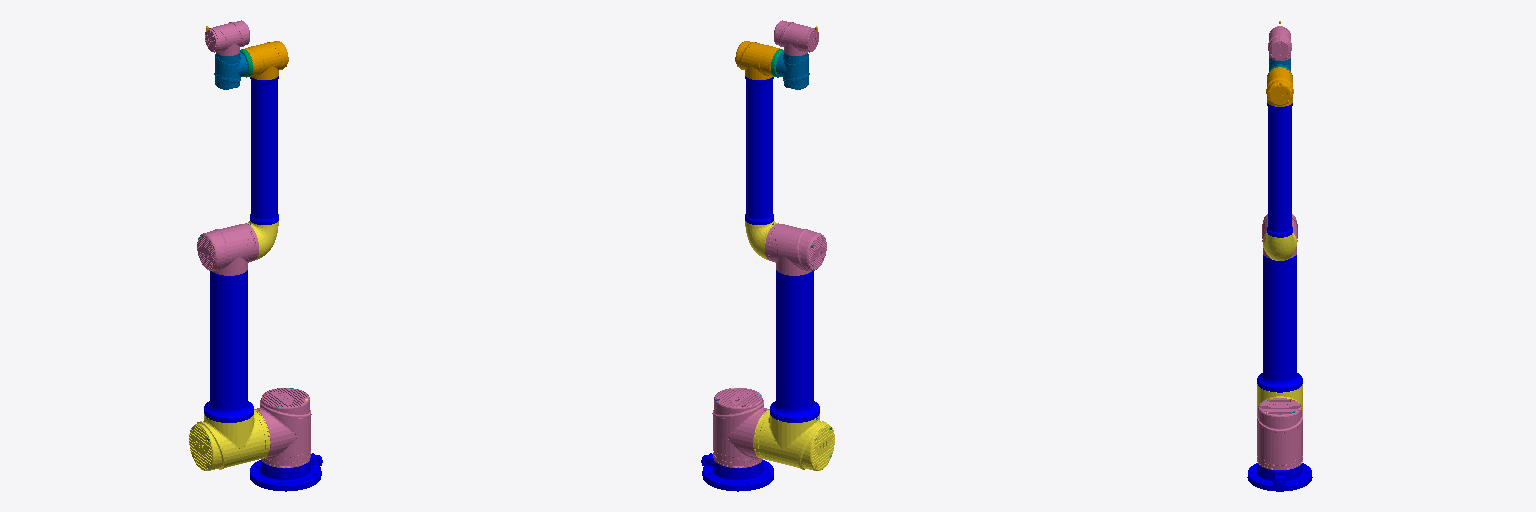
--- Facts derived from the render (not from the file) ---
3 views of the same robot in one strip: view 1: azimuth 30°, elevation 25°; view 2: azimuth 150°, elevation 25°; view 3: azimuth 270°, elevation 25° (orthographic).
Model AUBO_I10 with 34 links and 33 joints (6 revolute, 27 fixed), rooted at base_link, posed every joint at zero.
Links seen in each view (by area): view 1: link1, link2, link11, link6, link14, base_link, link24, link30, link28, link19; view 2: link1, link2, link11, link6, link14, base_link, link24, link30, link28, link19; view 3: link1, link2, link6, base_link, link24, link30, link19.
Boxes of the visible links, x1,y1,x2,y2 form: link1: (204,270,253,422); link2: (250,76,278,224); link11: (189,410,270,470); link6: (254,388,311,467); link14: (197,223,258,275); base_link: (250,453,322,491); link24: (245,41,288,79); link30: (205,20,249,55); link28: (214,52,247,89); link19: (247,221,278,259); link1: (770,270,819,422); link2: (745,76,773,224); link11: (753,410,834,470); link6: (712,388,769,467); link14: (765,223,826,275); base_link: (701,453,773,491); link24: (735,41,779,79); link30: (774,20,818,55); link28: (776,52,809,89); link19: (745,221,777,259); link1: (1257,255,1302,392); link2: (1267,103,1292,237); link6: (1257,398,1302,469); base_link: (1247,463,1312,491); link24: (1266,67,1293,106); link30: (1268,26,1291,60); link19: (1263,233,1296,260).
Size in the robot's own frame: 420 by 218 by 1563 metres.
34 mesh visuals loaded from 34 distinct referenced files (34 binary STL).

robot.urdf — AUBO_I10:
<?xml version="1.0" ?>
<!-- =================================================================================== -->
<!-- |    This document was autogenerated by xacro from aubo_i10.urdf.xacro            | -->
<!-- |    EDITING THIS FILE BY HAND IS NOT RECOMMENDED                                 | -->
<!-- =================================================================================== -->
<robot name="AUBO_I10">
  <material name="blue">
    <color rgba="0 0 1 1"/>
  </material>
  <!-- ==================== BASE ==================== -->
  <link name="base_link">
    <inertial>
      <mass value="10"/>
      <inertia ixx="0.1" ixy="0.0" ixz="0.0" iyy="0.1" iyz="0.0" izz="0.1"/>
    </inertial>
    <visual>
      <geometry>
        <mesh filename="package://3D_model/AUBO_I10/meshes/I10i10_base.stl" scale="1 1 1"/>
      </geometry>
      <material name="blue"/>
    </visual>
    <collision>
      <geometry>
        <mesh filename="package://3D_model/AUBO_I10/meshes/I10i10_base.stl" scale="1 1 1"/>
      </geometry>
    </collision>
  </link>
  <!-- ==================== LINK1 ==================== -->
  <link name="link1">
    <inertial>
      <mass value="5"/>
      <inertia ixx="0.05" ixy="0.0" ixz="0.0" iyy="0.05" iyz="0.0" izz="0.05"/>
    </inertial>
    <visual>
      <geometry>
        <mesh filename="package://3D_model/AUBO_I10/meshes/I10i10_arm_1.stl" scale="1 1 1"/>
      </geometry>
      <material name="blue"/>
    </visual>
    <collision>
      <geometry>
        <mesh filename="package://3D_model/AUBO_I10/meshes/I10i10_arm_1.stl" scale="1 1 1"/>
      </geometry>
    </collision>
  </link>
  <joint name="joint1" type="revolute">
    <parent link="base_link"/>
    <child link="link1"/>
    <origin rpy="0 0 0" xyz="0 0 0.1"/>
    <axis xyz="0 0 1"/>
    <limit effort="50" lower="-3.14" upper="3.14" velocity="1.0"/>
  </joint>
  <!-- ==================== LINK2 ==================== -->
  <link name="link2">
    <inertial>
      <mass value="4"/>
      <inertia ixx="0.04" ixy="0.0" ixz="0.0" iyy="0.04" iyz="0.0" izz="0.04"/>
    </inertial>
    <visual>
      <geometry>
        <mesh filename="package://3D_model/AUBO_I10/meshes/I10i10_arm_2.stl" scale="1 1 1"/>
      </geometry>
      <material name="blue"/>
    </visual>
    <collision>
      <geometry>
        <mesh filename="package://3D_model/AUBO_I10/meshes/I10i10_arm_2.stl" scale="1 1 1"/>
      </geometry>
    </collision>
  </link>
  <joint name="joint2" type="revolute">
    <parent link="link1"/>
    <child link="link2"/>
    <origin rpy="0 0 0" xyz="0 0 0.2"/>
    <axis xyz="0 1 0"/>
    <limit effort="50" lower="-3.14" upper="3.14" velocity="1.0"/>
  </joint>
  <!-- ==================== LINK3 ==================== -->
  <link name="link3">
    <inertial>
      <mass value="3.5"/>
      <inertia ixx="0.035" ixy="0.0" ixz="0.0" iyy="0.035" iyz="0.0" izz="0.035"/>
    </inertial>
    <visual>
      <geometry>
        <mesh filename="package://3D_model/AUBO_I10/meshes/I10Mesh.001.stl" scale="1 1 1"/>
      </geometry>
    </visual>
    <collision>
      <geometry>
        <mesh filename="package://3D_model/AUBO_I10/meshes/I10Mesh.001.stl" scale="1 1 1"/>
      </geometry>
    </collision>
  </link>
  <joint name="joint3" type="revolute">
    <parent link="link2"/>
    <child link="link3"/>
    <origin rpy="0 0 0" xyz="0 0 0.2"/>
    <axis xyz="0 1 0"/>
    <limit effort="50" lower="-3.14" upper="3.14" velocity="1.0"/>
  </joint>
  <!-- ==================== LINK4 ==================== -->
  <link name="link4">
    <inertial>
      <mass value="3"/>
      <inertia ixx="0.03" ixy="0.0" ixz="0.0" iyy="0.03" iyz="0.0" izz="0.03"/>
    </inertial>
    <visual>
      <geometry>
        <mesh filename="package://3D_model/AUBO_I10/meshes/I10Mesh.002.stl" scale="1 1 1"/>
      </geometry>
    </visual>
    <collision>
      <geometry>
        <mesh filename="package://3D_model/AUBO_I10/meshes/I10Mesh.002.stl" scale="1 1 1"/>
      </geometry>
    </collision>
  </link>
  <joint name="joint4" type="revolute">
    <parent link="link3"/>
    <child link="link4"/>
    <origin rpy="0 0 0" xyz="0 0 0.2"/>
    <axis xyz="0 1 0"/>
    <limit effort="50" lower="-3.14" upper="3.14" velocity="1.0"/>
  </joint>
  <!-- ==================== LINK5 ==================== -->
  <link name="link5">
    <inertial>
      <mass value="2.5"/>
      <inertia ixx="0.025" ixy="0.0" ixz="0.0" iyy="0.025" iyz="0.0" izz="0.025"/>
    </inertial>
    <visual>
      <geometry>
        <mesh filename="package://3D_model/AUBO_I10/meshes/I10Mesh.003.stl" scale="1 1 1"/>
      </geometry>
    </visual>
    <collision>
      <geometry>
        <mesh filename="package://3D_model/AUBO_I10/meshes/I10Mesh.003.stl" scale="1 1 1"/>
      </geometry>
    </collision>
  </link>
  <joint name="joint5" type="revolute">
    <parent link="link4"/>
    <child link="link5"/>
    <origin rpy="0 0 0" xyz="0 0 0.15"/>
    <axis xyz="0 1 0"/>
    <limit effort="50" lower="-3.14" upper="3.14" velocity="1.0"/>
  </joint>
  <!-- ==================== LINK6 ==================== -->
  <link name="link6">
    <inertial>
      <mass value="2"/>
      <inertia ixx="0.02" ixy="0.0" ixz="0.0" iyy="0.02" iyz="0.0" izz="0.02"/>
    </inertial>
    <visual>
      <geometry>
        <mesh filename="package://3D_model/AUBO_I10/meshes/I10Mesh.004.stl" scale="1 1 1"/>
      </geometry>
    </visual>
    <collision>
      <geometry>
        <mesh filename="package://3D_model/AUBO_I10/meshes/I10Mesh.004.stl" scale="1 1 1"/>
      </geometry>
    </collision>
  </link>
  <joint name="joint6" type="revolute">
    <parent link="link5"/>
    <child link="link6"/>
    <origin rpy="0 0 0" xyz="0 0 0.1"/>
    <axis xyz="0 1 0"/>
    <limit effort="50" lower="-3.14" upper="3.14" velocity="1.0"/>
  </joint>
  <!-- ==================== LINK7 ==================== -->
  <link name="link7">
    <inertial>
      <mass value="1.2"/>
      <inertia ixx="0.012" ixy="0" ixz="0" iyy="0.012" iyz="0" izz="0.012"/>
    </inertial>
    <visual>
      <geometry>
        <mesh filename="package://3D_model/AUBO_I10/meshes/I10Mesh.006.stl" scale="1 1 1"/>
      </geometry>
    </visual>
    <collision>
      <geometry>
        <mesh filename="package://3D_model/AUBO_I10/meshes/I10Mesh.006.stl" scale="1 1 1"/>
      </geometry>
    </collision>
  </link>
  <joint name="joint7" type="fixed">
    <parent link="link6"/>
    <child link="link7"/>
    <origin rpy="0 0 0" xyz="0 0 0"/>
  </joint>
  <!-- ==================== LINK8 ==================== -->
  <link name="link8">
    <inertial>
      <mass value="1.2"/>
      <inertia ixx="0.012" ixy="0" ixz="0" iyy="0.012" iyz="0" izz="0.012"/>
    </inertial>
    <visual>
      <geometry>
        <mesh filename="package://3D_model/AUBO_I10/meshes/I10Mesh.007.stl" scale="1 1 1"/>
      </geometry>
    </visual>
    <collision>
      <geometry>
        <mesh filename="package://3D_model/AUBO_I10/meshes/I10Mesh.007.stl" scale="1 1 1"/>
      </geometry>
    </collision>
  </link>
  <joint name="joint8" type="fixed">
    <parent link="link7"/>
    <child link="link8"/>
    <origin rpy="0 0 0" xyz="0 0 0"/>
  </joint>
  <!-- ==================== LINK9 ==================== -->
  <link name="link9">
    <inertial>
      <mass value="1"/>
      <inertia ixx="0.01" ixy="0" ixz="0" iyy="0.01" iyz="0" izz="0.01"/>
    </inertial>
    <visual>
      <geometry>
        <mesh filename="package://3D_model/AUBO_I10/meshes/I10Mesh.008.stl" scale="1 1 1"/>
      </geometry>
    </visual>
    <collision>
      <geometry>
        <mesh filename="package://3D_model/AUBO_I10/meshes/I10Mesh.008.stl" scale="1 1 1"/>
      </geometry>
    </collision>
  </link>
  <joint name="joint9" type="fixed">
    <parent link="link8"/>
    <child link="link9"/>
    <origin rpy="0 0 0" xyz="0 0 0"/>
  </joint>
  <!-- ==================== LINK10 ==================== -->
  <link name="link10">
    <inertial>
      <mass value="1"/>
      <inertia ixx="0.01" ixy="0" ixz="0" iyy="0.01" iyz="0" izz="0.01"/>
    </inertial>
    <visual>
      <geometry>
        <mesh filename="package://3D_model/AUBO_I10/meshes/I10Mesh.009.stl" scale="1 1 1"/>
      </geometry>
    </visual>
    <collision>
      <geometry>
        <mesh filename="package://3D_model/AUBO_I10/meshes/I10Mesh.009.stl" scale="1 1 1"/>
      </geometry>
    </collision>
  </link>
  <joint name="joint10" type="fixed">
    <parent link="link9"/>
    <child link="link10"/>
    <origin rpy="0 0 0" xyz="0 0 0"/>
  </joint>
  <!-- ==================== LINK11 ==================== -->
  <link name="link11">
    <inertial>
      <mass value="1"/>
      <inertia ixx="0.01" ixy="0" ixz="0" iyy="0.01" iyz="0" izz="0.01"/>
    </inertial>
    <visual>
      <geometry>
        <mesh filename="package://3D_model/AUBO_I10/meshes/I10Mesh.010.stl" scale="1 1 1"/>
      </geometry>
    </visual>
    <collision>
      <geometry>
        <mesh filename="package://3D_model/AUBO_I10/meshes/I10Mesh.010.stl" scale="1 1 1"/>
      </geometry>
    </collision>
  </link>
  <joint name="joint11" type="fixed">
    <parent link="link10"/>
    <child link="link11"/>
    <origin rpy="0 0 0" xyz="0 0 0"/>
  </joint>
  <!-- ==================== LINK12 ==================== -->
  <link name="link12">
    <inertial>
      <mass value="0.8"/>
      <inertia ixx="0.008" ixy="0" ixz="0" iyy="0.008" iyz="0" izz="0.008"/>
    </inertial>
    <visual>
      <geometry>
        <mesh filename="package://3D_model/AUBO_I10/meshes/I10Mesh.011.stl" scale="1 1 1"/>
      </geometry>
    </visual>
    <collision>
      <geometry>
        <mesh filename="package://3D_model/AUBO_I10/meshes/I10Mesh.011.stl" scale="1 1 1"/>
      </geometry>
    </collision>
  </link>
  <joint name="joint12" type="fixed">
    <parent link="link11"/>
    <child link="link12"/>
    <origin rpy="0 0 0" xyz="0 0 0"/>
  </joint>
  <!-- ==================== LINK13 ==================== -->
  <link name="link13">
    <inertial>
      <mass value="0.8"/>
      <inertia ixx="0.008" ixy="0" ixz="0" iyy="0.008" iyz="0" izz="0.008"/>
    </inertial>
    <visual>
      <geometry>
        <mesh filename="package://3D_model/AUBO_I10/meshes/I10Mesh.012.stl" scale="1 1 1"/>
      </geometry>
    </visual>
    <collision>
      <geometry>
        <mesh filename="package://3D_model/AUBO_I10/meshes/I10Mesh.012.stl" scale="1 1 1"/>
      </geometry>
    </collision>
  </link>
  <joint name="joint13" type="fixed">
    <parent link="link12"/>
    <child link="link13"/>
    <origin rpy="0 0 0" xyz="0 0 0"/>
  </joint>
  <!-- ==================== LINK14 ==================== -->
  <link name="link14">
    <inertial>
      <mass value="0.8"/>
      <inertia ixx="0.008" ixy="0" ixz="0" iyy="0.008" iyz="0" izz="0.008"/>
    </inertial>
    <visual>
      <geometry>
        <mesh filename="package://3D_model/AUBO_I10/meshes/I10Mesh.013.stl" scale="1 1 1"/>
      </geometry>
    </visual>
    <collision>
      <geometry>
        <mesh filename="package://3D_model/AUBO_I10/meshes/I10Mesh.013.stl" scale="1 1 1"/>
      </geometry>
    </collision>
  </link>
  <joint name="joint14" type="fixed">
    <parent link="link13"/>
    <child link="link14"/>
    <origin rpy="0 0 0" xyz="0 0 0"/>
  </joint>
  <!-- ==================== LINK15 ==================== -->
  <link name="link15">
    <inertial>
      <mass value="0.7"/>
      <inertia ixx="0.007" ixy="0" ixz="0" iyy="0.007" iyz="0" izz="0.007"/>
    </inertial>
    <visual>
      <geometry>
        <mesh filename="package://3D_model/AUBO_I10/meshes/I10Mesh.014.stl" scale="1 1 1"/>
      </geometry>
    </visual>
    <collision>
      <geometry>
        <mesh filename="package://3D_model/AUBO_I10/meshes/I10Mesh.014.stl" scale="1 1 1"/>
      </geometry>
    </collision>
  </link>
  <joint name="joint15" type="fixed">
    <parent link="link14"/>
    <child link="link15"/>
    <origin rpy="0 0 0" xyz="0 0 0"/>
  </joint>
  <!-- ==================== LINK16 ==================== -->
  <link name="link16">
    <inertial>
      <mass value="0.7"/>
      <inertia ixx="0.007" ixy="0" ixz="0" iyy="0.007" iyz="0" izz="0.007"/>
    </inertial>
    <visual>
      <geometry>
        <mesh filename="package://3D_model/AUBO_I10/meshes/I10Mesh.015.stl" scale="1 1 1"/>
      </geometry>
    </visual>
    <collision>
      <geometry>
        <mesh filename="package://3D_model/AUBO_I10/meshes/I10Mesh.015.stl" scale="1 1 1"/>
      </geometry>
    </collision>
  </link>
  <joint name="joint16" type="fixed">
    <parent link="link15"/>
    <child link="link16"/>
    <origin rpy="0 0 0" xyz="0 0 0"/>
  </joint>
  <!-- ==================== LINK17 ==================== -->
  <link name="link17">
    <inertial>
      <mass value="0.6"/>
      <inertia ixx="0.006" ixy="0" ixz="0" iyy="0.006" iyz="0" izz="0.006"/>
    </inertial>
    <visual>
      <geometry>
        <mesh filename="package://3D_model/AUBO_I10/meshes/I10Mesh.016.stl" scale="1 1 1"/>
      </geometry>
    </visual>
    <collision>
      <geometry>
        <mesh filename="package://3D_model/AUBO_I10/meshes/I10Mesh.016.stl" scale="1 1 1"/>
      </geometry>
    </collision>
  </link>
  <joint name="joint17" type="fixed">
    <parent link="link16"/>
    <child link="link17"/>
    <origin rpy="0 0 0" xyz="0 0 0"/>
  </joint>
  <!-- ==================== LINK18 ==================== -->
  <link name="link18">
    <inertial>
      <mass value="0.6"/>
      <inertia ixx="0.006" ixy="0" ixz="0" iyy="0.006" iyz="0" izz="0.006"/>
    </inertial>
    <visual>
      <geometry>
        <mesh filename="package://3D_model/AUBO_I10/meshes/I10Mesh.017.stl" scale="1 1 1"/>
      </geometry>
    </visual>
    <collision>
      <geometry>
        <mesh filename="package://3D_model/AUBO_I10/meshes/I10Mesh.017.stl" scale="1 1 1"/>
      </geometry>
    </collision>
  </link>
  <joint name="joint18" type="fixed">
    <parent link="link17"/>
    <child link="link18"/>
    <origin rpy="0 0 0" xyz="0 0 0"/>
  </joint>
  <!-- ==================== LINK19 ==================== -->
  <link name="link19">
    <inertial>
      <mass value="0.5"/>
      <inertia ixx="0.005" ixy="0" ixz="0" iyy="0.005" iyz="0" izz="0.005"/>
    </inertial>
    <visual>
      <geometry>
        <mesh filename="package://3D_model/AUBO_I10/meshes/I10Mesh.018.stl" scale="1 1 1"/>
      </geometry>
    </visual>
    <collision>
      <geometry>
        <mesh filename="package://3D_model/AUBO_I10/meshes/I10Mesh.018.stl" scale="1 1 1"/>
      </geometry>
    </collision>
  </link>
  <joint name="joint19" type="fixed">
    <parent link="link18"/>
    <child link="link19"/>
    <origin rpy="0 0 0" xyz="0 0 0"/>
  </joint>
  <!-- ==================== LINK20 ==================== -->
  <link name="link20">
    <inertial>
      <mass value="0.5"/>
      <inertia ixx="0.005" ixy="0" ixz="0" iyy="0.005" iyz="0" izz="0.005"/>
    </inertial>
    <visual>
      <geometry>
        <mesh filename="package://3D_model/AUBO_I10/meshes/I10Mesh.019.stl" scale="1 1 1"/>
      </geometry>
    </visual>
    <collision>
      <geometry>
        <mesh filename="package://3D_model/AUBO_I10/meshes/I10Mesh.019.stl" scale="1 1 1"/>
      </geometry>
    </collision>
  </link>
  <joint name="joint20" type="fixed">
    <parent link="link19"/>
    <child link="link20"/>
    <origin rpy="0 0 0" xyz="0 0 0"/>
  </joint>
  <!-- ==================== LINK21 ==================== -->
  <link name="link21">
    <inertial>
      <mass value="0.4"/>
      <inertia ixx="0.004" ixy="0" ixz="0" iyy="0.004" iyz="0" izz="0.004"/>
    </inertial>
    <visual>
      <geometry>
        <mesh filename="package://3D_model/AUBO_I10/meshes/I10Mesh.020.stl" scale="1 1 1"/>
      </geometry>
    </visual>
    <collision>
      <geometry>
        <mesh filename="package://3D_model/AUBO_I10/meshes/I10Mesh.020.stl" scale="1 1 1"/>
      </geometry>
    </collision>
  </link>
  <joint name="joint21" type="fixed">
    <parent link="link20"/>
    <child link="link21"/>
    <origin rpy="0 0 0" xyz="0 0 0"/>
  </joint>

  <!-- ==================== LINK22 ==================== -->
  <link name="link22">
    <inertial>
      <mass value="0.4"/>
      <inertia ixx="0.004" ixy="0" ixz="0" iyy="0.004" iyz="0" izz="0.004"/>
    </inertial>
    <visual>
      <geometry>
        <mesh filename="package://3D_model/AUBO_I10/meshes/I10Mesh.021.stl" scale="1 1 1"/>
      </geometry>
    </visual>
    <collision>
      <geometry>
        <mesh filename="package://3D_model/AUBO_I10/meshes/I10Mesh.021.stl" scale="1 1 1"/>
      </geometry>
    </collision>
  </link>
  <joint name="joint22" type="fixed">
    <parent link="link21"/>
    <child link="link22"/>
    <origin rpy="0 0 0" xyz="0 0 0"/>
  </joint>
  <!-- ==================== LINK23 ==================== -->
  <link name="link23">
    <inertial>
      <mass value="0.35"/>
      <inertia ixx="0.0035" ixy="0" ixz="0" iyy="0.0035" iyz="0" izz="0.0035"/>
    </inertial>
    <visual>
      <geometry>
        <mesh filename="package://3D_model/AUBO_I10/meshes/I10Mesh.022.stl" scale="1 1 1"/>
      </geometry>
    </visual>
    <collision>
      <geometry>
        <mesh filename="package://3D_model/AUBO_I10/meshes/I10Mesh.022.stl" scale="1 1 1"/>
      </geometry>
    </collision>
  </link>
  <joint name="joint23" type="fixed">
    <parent link="link22"/>
    <child link="link23"/>
    <origin rpy="0 0 0" xyz="0 0 0"/>
  </joint>
  <!-- ==================== LINK24 ==================== -->
  <link name="link24">
    <inertial>
      <mass value="0.35"/>
      <inertia ixx="0.0035" ixy="0" ixz="0" iyy="0.0035" iyz="0" izz="0.0035"/>
    </inertial>
    <visual>
      <geometry>
        <mesh filename="package://3D_model/AUBO_I10/meshes/I10Mesh.023.stl" scale="1 1 1"/>
      </geometry>
    </visual>
    <collision>
      <geometry>
        <mesh filename="package://3D_model/AUBO_I10/meshes/I10Mesh.023.stl" scale="1 1 1"/>
      </geometry>
    </collision>
  </link>
  <joint name="joint24" type="fixed">
    <parent link="link23"/>
    <child link="link24"/>
    <origin rpy="0 0 0" xyz="0 0 0"/>
  </joint>
  <!-- ==================== LINK25 ==================== -->
  <link name="link25">
    <inertial>
      <mass value="0.3"/>
      <inertia ixx="0.003" ixy="0" ixz="0" iyy="0.003" iyz="0" izz="0.003"/>
    </inertial>
    <visual>
      <geometry>
        <mesh filename="package://3D_model/AUBO_I10/meshes/I10Mesh.024.stl" scale="1 1 1"/>
      </geometry>
    </visual>
    <collision>
      <geometry>
        <mesh filename="package://3D_model/AUBO_I10/meshes/I10Mesh.024.stl" scale="1 1 1"/>
      </geometry>
    </collision>
  </link>
  <joint name="joint25" type="fixed">
    <parent link="link24"/>
    <child link="link25"/>
    <origin rpy="0 0 0" xyz="0 0 0"/>
  </joint>
  <!-- ==================== LINK26 ==================== -->
  <link name="link26">
    <inertial>
      <mass value="0.3"/>
      <inertia ixx="0.003" ixy="0" ixz="0" iyy="0.003" iyz="0" izz="0.003"/>
    </inertial>
    <visual>
      <geometry>
        <mesh filename="package://3D_model/AUBO_I10/meshes/I10Mesh.025.stl" scale="1 1 1"/>
      </geometry>
    </visual>
    <collision>
      <geometry>
        <mesh filename="package://3D_model/AUBO_I10/meshes/I10Mesh.025.stl" scale="1 1 1"/>
      </geometry>
    </collision>
  </link>
  <joint name="joint26" type="fixed">
    <parent link="link25"/>
    <child link="link26"/>
    <origin rpy="0 0 0" xyz="0 0 0"/>
  </joint>
  <!-- ==================== LINK27 ==================== -->
  <link name="link27">
    <inertial>
      <mass value="0.25"/>
      <inertia ixx="0.0025" ixy="0" ixz="0" iyy="0.0025" iyz="0" izz="0.0025"/>
    </inertial>
    <visual>
      <geometry>
        <mesh filename="package://3D_model/AUBO_I10/meshes/I10Mesh.026.stl" scale="1 1 1"/>
      </geometry>
    </visual>
    <collision>
      <geometry>
        <mesh filename="package://3D_model/AUBO_I10/meshes/I10Mesh.026.stl" scale="1 1 1"/>
      </geometry>
    </collision>
  </link>
  <joint name="joint27" type="fixed">
    <parent link="link26"/>
    <child link="link27"/>
    <origin rpy="0 0 0" xyz="0 0 0"/>
  </joint>
  <!-- ==================== LINK28 ==================== -->
  <link name="link28">
    <inertial>
      <mass value="0.25"/>
      <inertia ixx="0.0025" ixy="0" ixz="0" iyy="0.0025" iyz="0" izz="0.0025"/>
    </inertial>
    <visual>
      <geometry>
        <mesh filename="package://3D_model/AUBO_I10/meshes/I10Mesh.027.stl" scale="1 1 1"/>
      </geometry>
    </visual>
    <collision>
      <geometry>
        <mesh filename="package://3D_model/AUBO_I10/meshes/I10Mesh.027.stl" scale="1 1 1"/>
      </geometry>
    </collision>
  </link>
  <joint name="joint28" type="fixed">
    <parent link="link27"/>
    <child link="link28"/>
    <origin rpy="0 0 0" xyz="0 0 0"/>
  </joint>
  <!-- ==================== LINK29 ==================== -->
  <link name="link29">
    <inertial>
      <mass value="0.2"/>
      <inertia ixx="0.002" ixy="0" ixz="0" iyy="0.002" iyz="0" izz="0.002"/>
    </inertial>
    <visual>
      <geometry>
        <mesh filename="package://3D_model/AUBO_I10/meshes/I10Mesh.028.stl" scale="1 1 1"/>
      </geometry>
    </visual>
    <collision>
      <geometry>
        <mesh filename="package://3D_model/AUBO_I10/meshes/I10Mesh.028.stl" scale="1 1 1"/>
      </geometry>
    </collision>
  </link>
  <joint name="joint29" type="fixed">
    <parent link="link28"/>
    <child link="link29"/>
    <origin rpy="0 0 0" xyz="0 0 0"/>
  </joint>
  <!-- ==================== LINK30 ==================== -->
  <link name="link30">
    <inertial>
      <mass value="0.2"/>
      <inertia ixx="0.002" ixy="0" ixz="0" iyy="0.002" iyz="0" izz="0.002"/>
    </inertial>
    <visual>
      <geometry>
        <mesh filename="package://3D_model/AUBO_I10/meshes/I10Mesh.029.stl" scale="1 1 1"/>
      </geometry>
    </visual>
    <collision>
      <geometry>
        <mesh filename="package://3D_model/AUBO_I10/meshes/I10Mesh.029.stl" scale="1 1 1"/>
      </geometry>
    </collision>
  </link>
  <joint name="joint30" type="fixed">
    <parent link="link29"/>
    <child link="link30"/>
    <origin rpy="0 0 0" xyz="0 0 0"/>
  </joint>
  <!-- ==================== LINK31 ==================== -->
  <link name="link31">
    <inertial>
      <mass value="0.15"/>
      <inertia ixx="0.0015" ixy="0" ixz="0" iyy="0.0015" iyz="0" izz="0.0015"/>
    </inertial>
    <visual>
      <geometry>
        <mesh filename="package://3D_model/AUBO_I10/meshes/I10Mesh.030.stl" scale="1 1 1"/>
      </geometry>
    </visual>
    <collision>
      <geometry>
        <mesh filename="package://3D_model/AUBO_I10/meshes/I10Mesh.030.stl" scale="1 1 1"/>
      </geometry>
    </collision>
  </link>
  <joint name="joint31" type="fixed">
    <parent link="link30"/>
    <child link="link31"/>
    <origin rpy="0 0 0" xyz="0 0 0"/>
  </joint>
  <!-- ==================== LINK32 ==================== -->
  <link name="link32">
    <inertial>
      <mass value="0.15"/>
      <inertia ixx="0.0015" ixy="0" ixz="0" iyy="0.0015" iyz="0" izz="0.0015"/>
    </inertial>
    <visual>
      <geometry>
        <mesh filename="package://3D_model/AUBO_I10/meshes/I10Mesh.031.stl" scale="1 1 1"/>
      </geometry>
    </visual>
    <collision>
      <geometry>
        <mesh filename="package://3D_model/AUBO_I10/meshes/I10Mesh.031.stl" scale="1 1 1"/>
      </geometry>
    </collision>
  </link>
  <joint name="joint32" type="fixed">
    <parent link="link31"/>
    <child link="link32"/>
    <origin rpy="0 0 0" xyz="0 0 0"/>
  </joint>
  <!-- ==================== LINK33 (FINAL) ==================== -->
  <link name="link33">
    <inertial>
      <mass value="0.1"/>
      <inertia ixx="0.001" ixy="0" ixz="0" iyy="0.001" iyz="0" izz="0.001"/>
    </inertial>
    <visual>
      <geometry>
        <mesh filename="package://3D_model/AUBO_I10/meshes/I10Mesh.stl" scale="1 1 1"/>
      </geometry>
    </visual>
    <collision>
      <geometry>
        <mesh filename="package://3D_model/AUBO_I10/meshes/I10Mesh.stl" scale="1 1 1"/>
      </geometry>
    </collision>
  </link>
  <joint name="joint33" type="fixed">
    <parent link="link32"/>
    <child link="link33"/>
    <origin rpy="0 0 0" xyz="0 0 0"/>
  </joint>
</robot>
